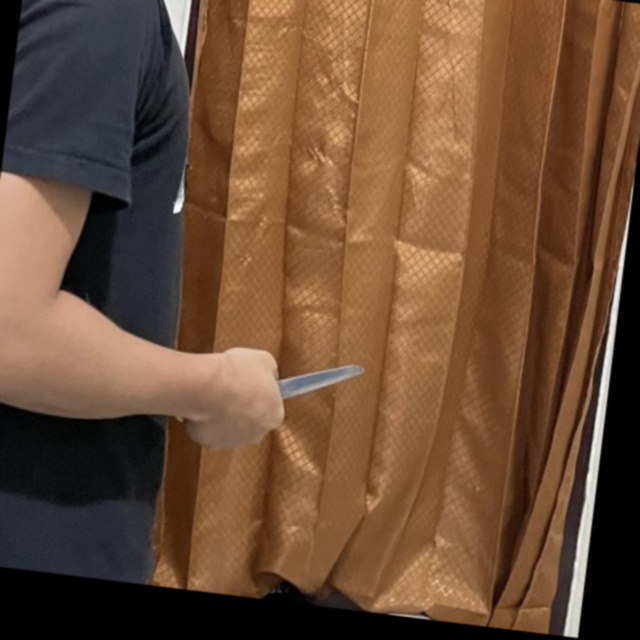Sharp-Object: (272, 353, 367, 412)
